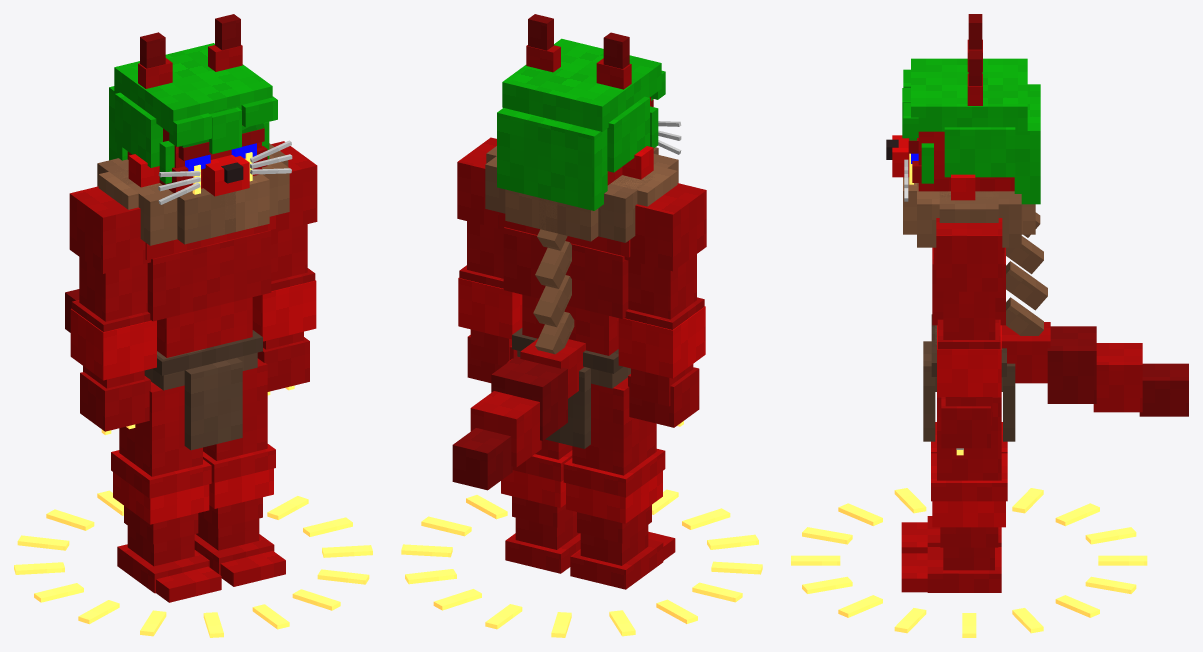
File: beastfolk_s1_evo3.glb
3 renders of one model, left to right at view 1: azimuth 30°, elevation 25°; view 2: azimuth 150°, elevation 25°; view 3: azimuth 270°, elevation 25°, orthographic.
Visible parts, largest first — view 1: Torso, Head, ArmR, LegR, LegL, ArmL, Root; view 2: Torso, Head, ArmR, LegR, ArmL, LegL, Root; view 3: Torso, Head, ArmL, LegL, Root, LegR.
Boxes of the visible parts, x1,y1,x2,y2 form: Torso: (65, 143, 289, 450); Head: (109, 14, 292, 204); ArmR: (69, 186, 156, 434); LegR: (111, 381, 221, 602); LegL: (194, 358, 285, 586); ArmL: (252, 141, 317, 395); Root: (14, 490, 372, 637); Torso: (452, 146, 678, 490); Head: (497, 14, 681, 210); ArmR: (618, 183, 706, 427); LegR: (563, 377, 675, 589); ArmL: (457, 137, 522, 382); LegL: (501, 358, 580, 573); Root: (401, 489, 762, 637); Torso: (903, 177, 1188, 441); Head: (886, 14, 1040, 204); ArmL: (936, 218, 1002, 455); LegL: (901, 397, 1007, 592); Root: (791, 488, 1147, 637); LegR: (901, 422, 1007, 553).
Bounding box in the file's own units: 1.16 × 1.89 × 1.29.
30 materials, 30 textured.
